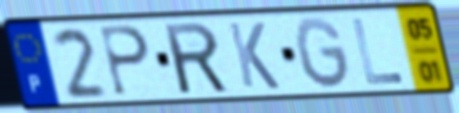2: (49, 25, 110, 101)
G: (292, 14, 354, 92)
K: (225, 20, 283, 92)
L: (348, 17, 407, 87)
P: (97, 24, 153, 100)
R: (160, 19, 232, 97)
